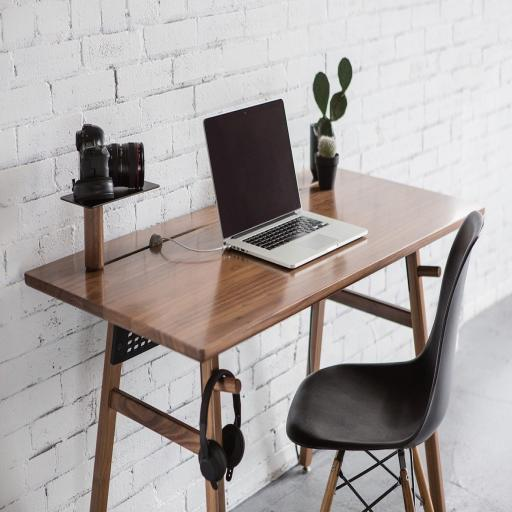chair: (285, 209, 484, 512)
desk: (24, 166, 486, 512)
wall: (0, 0, 512, 512)
